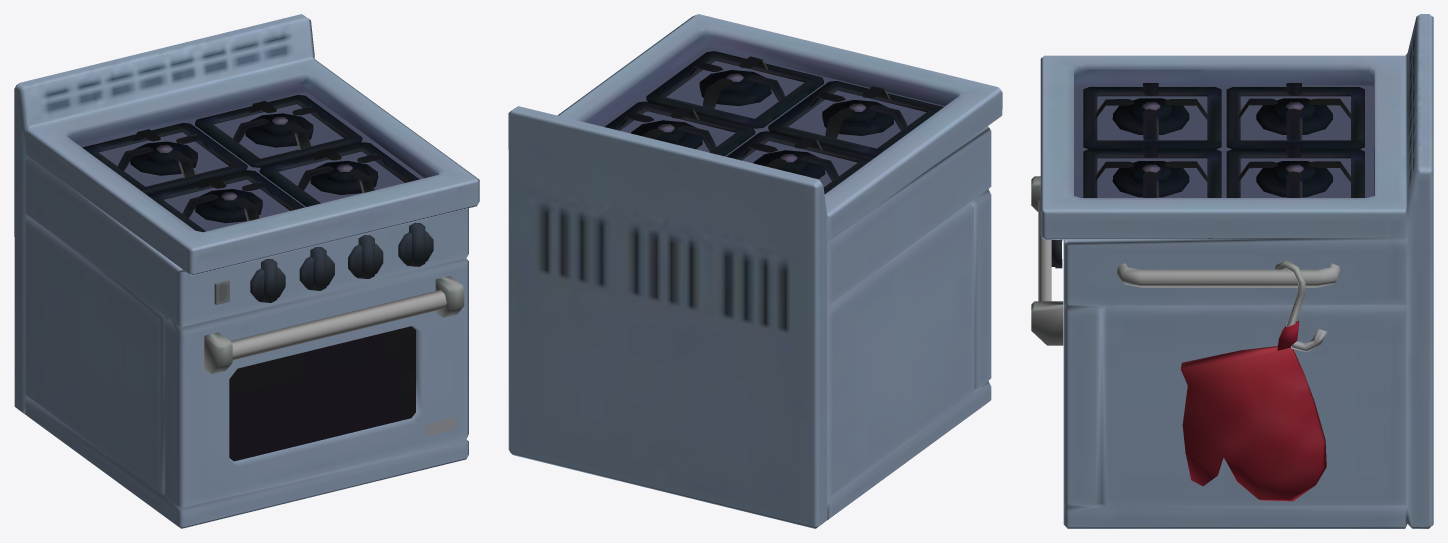
3 views of the same model, side by side, from view 1: azimuth 30°, elevation 25°; view 2: azimuth 150°, elevation 25°; view 3: azimuth 270°, elevation 25° (orthographic). The views are drawn at different scales.
Size of the model in its own units: 9.39 by 8.93 by 9.
1 material, 1 textured.
